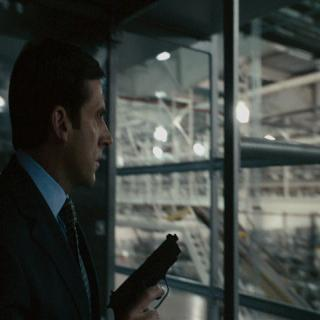gun: (104, 228, 184, 320)
